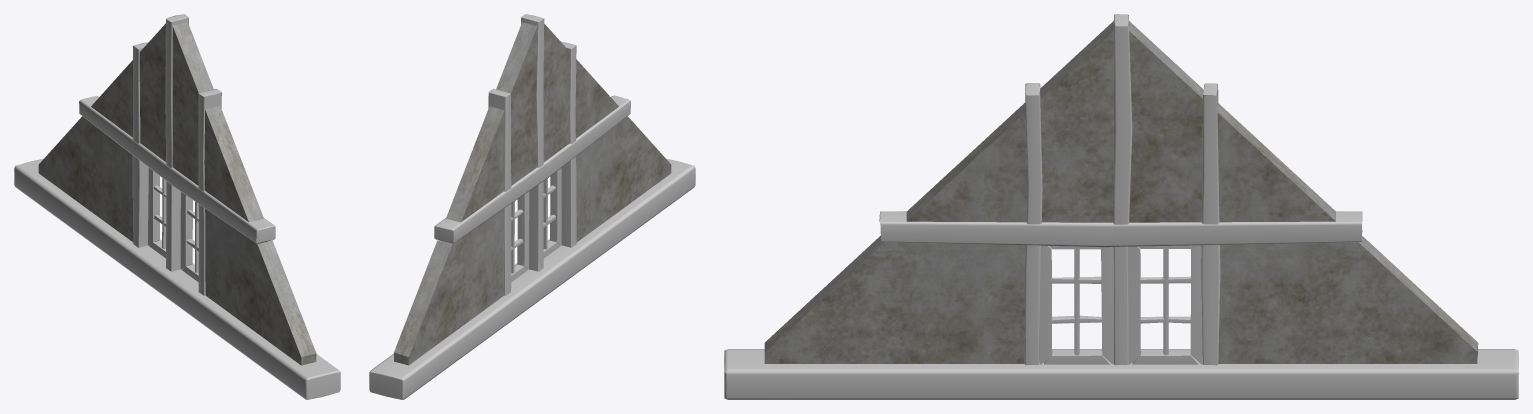
Rendered from SM_RoofEnd01.fbx.
3 views of the same model, side by side, from view 1: azimuth 30°, elevation 25°; view 2: azimuth 150°, elevation 25°; view 3: azimuth 270°, elevation 25° (orthographic). The views are drawn at different scales.
Visible parts, largest first — view 1: SM_RoofEnd01_LOD0; view 2: SM_RoofEnd01_LOD0; view 3: SM_RoofEnd01_LOD0.
Part boxes in pixels (left/top/right/bottom): SM_RoofEnd01_LOD0: left=14, top=14, right=340, bottom=399; SM_RoofEnd01_LOD0: left=369, top=14, right=695, bottom=399; SM_RoofEnd01_LOD0: left=724, top=14, right=1518, bottom=399.
Bounding box in the file's own units: 46.76 × 668 × 343.
